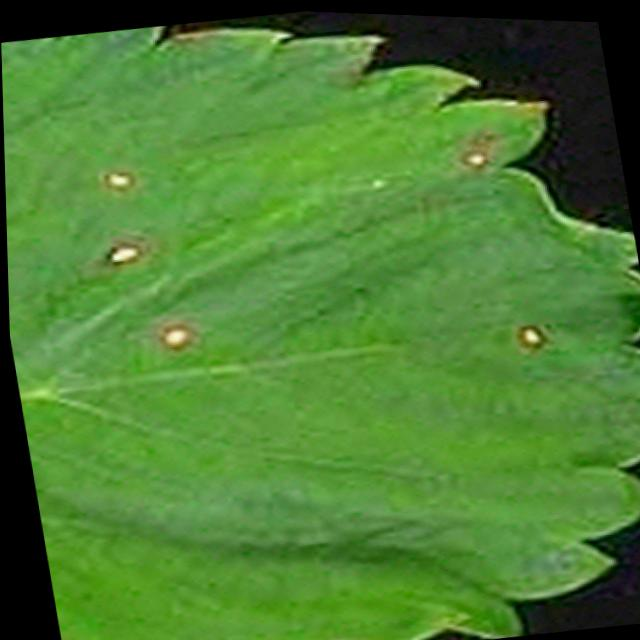Leaf Spot: (1, 24, 640, 640)
